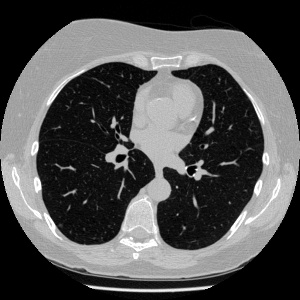PN: (58, 223, 62, 227)
